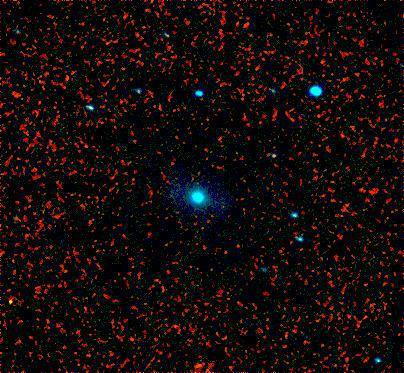star: (0, 283, 25, 313)
